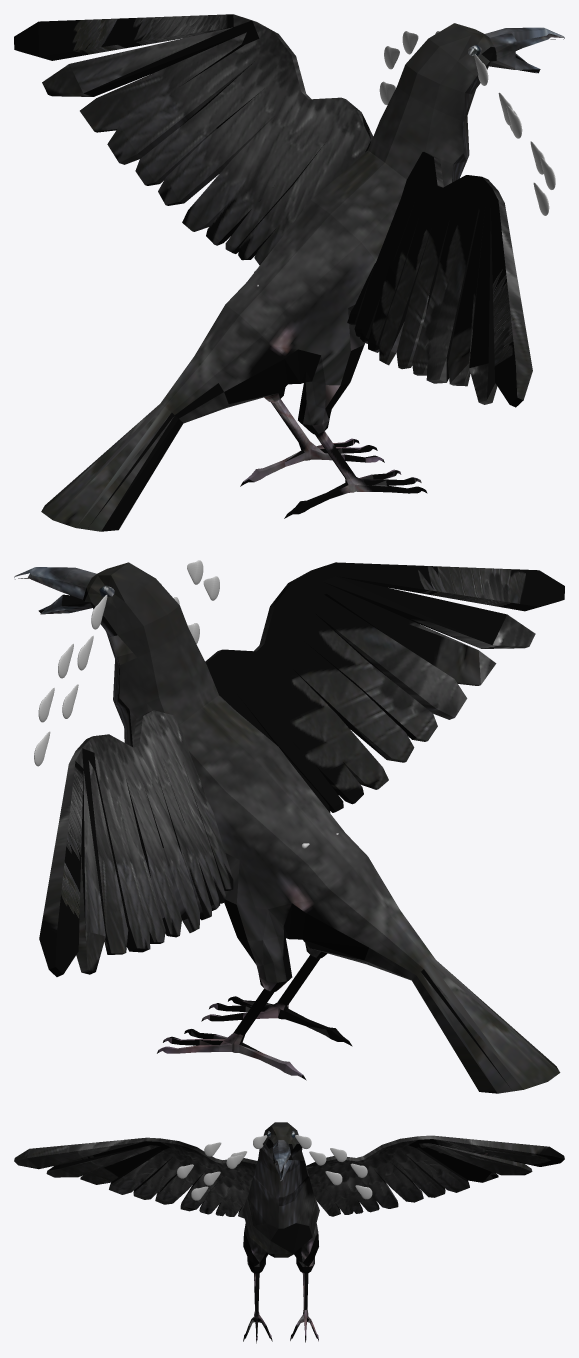
File: aasooo_000016.obj
3 views of the same model, one above another, from view 1: azimuth 30°, elevation 25°; view 2: azimuth 150°, elevation 25°; view 3: azimuth 270°, elevation 25° (orthographic). The views are drawn at different scales.
Visible parts, largest first — view 1: Cylinder.001, Cylinder.002, Cylinder.003; view 2: Cylinder.001, Cylinder.003, Cylinder.002; view 3: Cylinder.002, Cylinder.003, Cylinder.001.
Boxes of the visible parts, x1,y1,x2,y2 form: Cylinder.001: (41, 23, 564, 531); Cylinder.002: (14, 14, 373, 265); Cylinder.003: (347, 152, 532, 407); Cylinder.001: (14, 562, 560, 1093); Cylinder.003: (205, 562, 564, 812); Cylinder.002: (39, 710, 233, 976); Cylinder.002: (306, 1135, 564, 1216); Cylinder.003: (14, 1137, 257, 1218); Cylinder.001: (242, 1122, 319, 1343).
Size of the model in its own units: 2.61 by 2.05 by 4.34.
